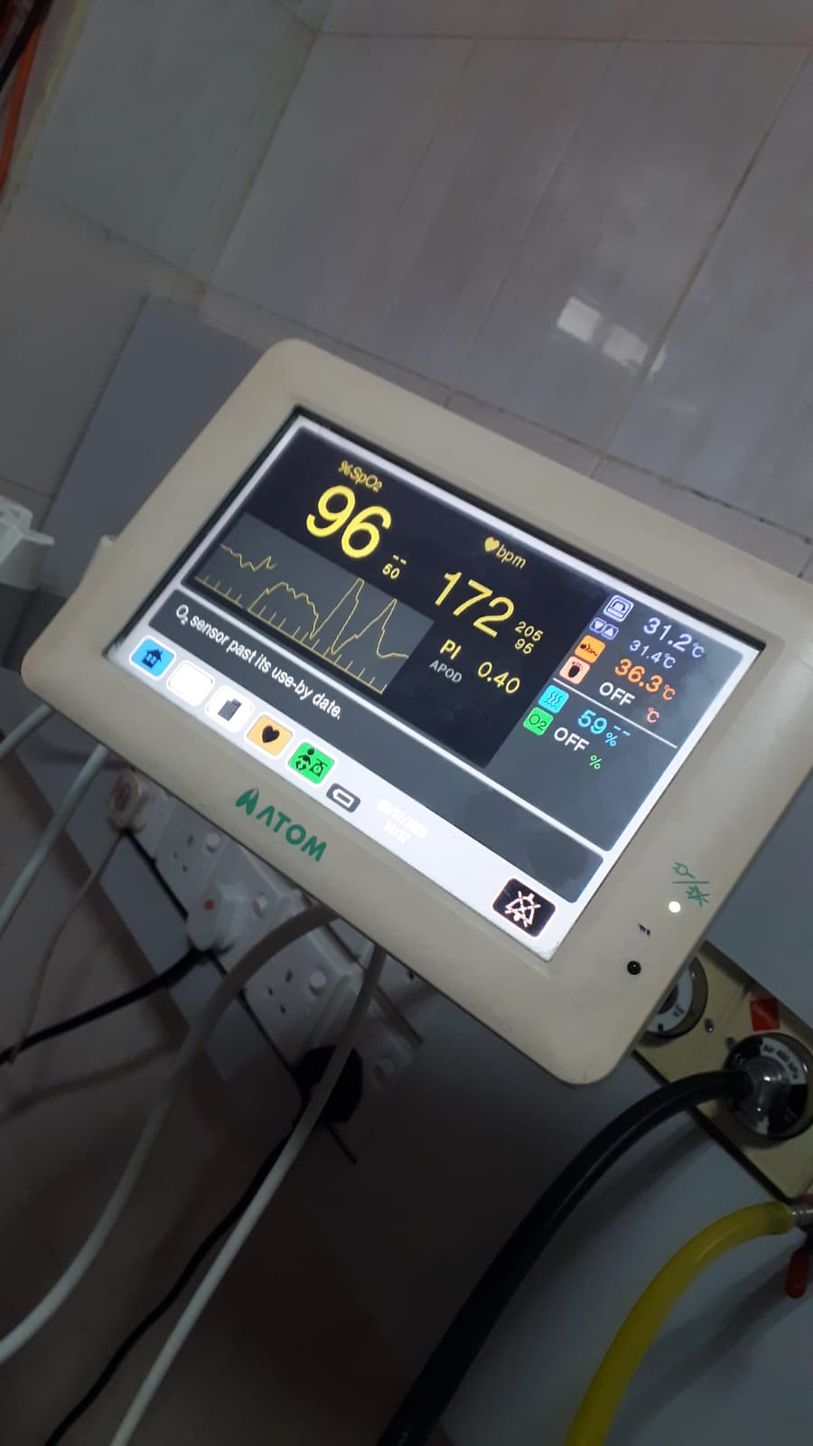air_temp_value: (643, 600, 712, 637)
heart_rate_value: (450, 553, 542, 617)
humidity_value: (582, 699, 622, 726)
skin_temp_value: (622, 647, 676, 679)
spo2_value: (324, 465, 424, 536)
